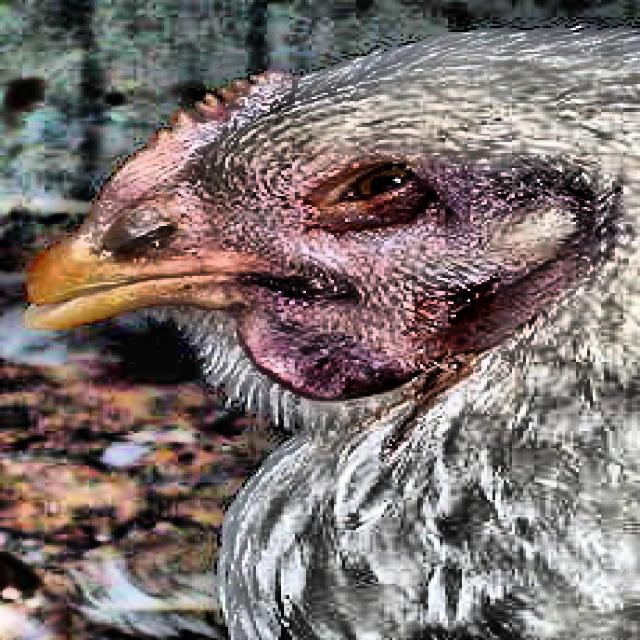Infectios bronchitis: (144, 83, 569, 398)
